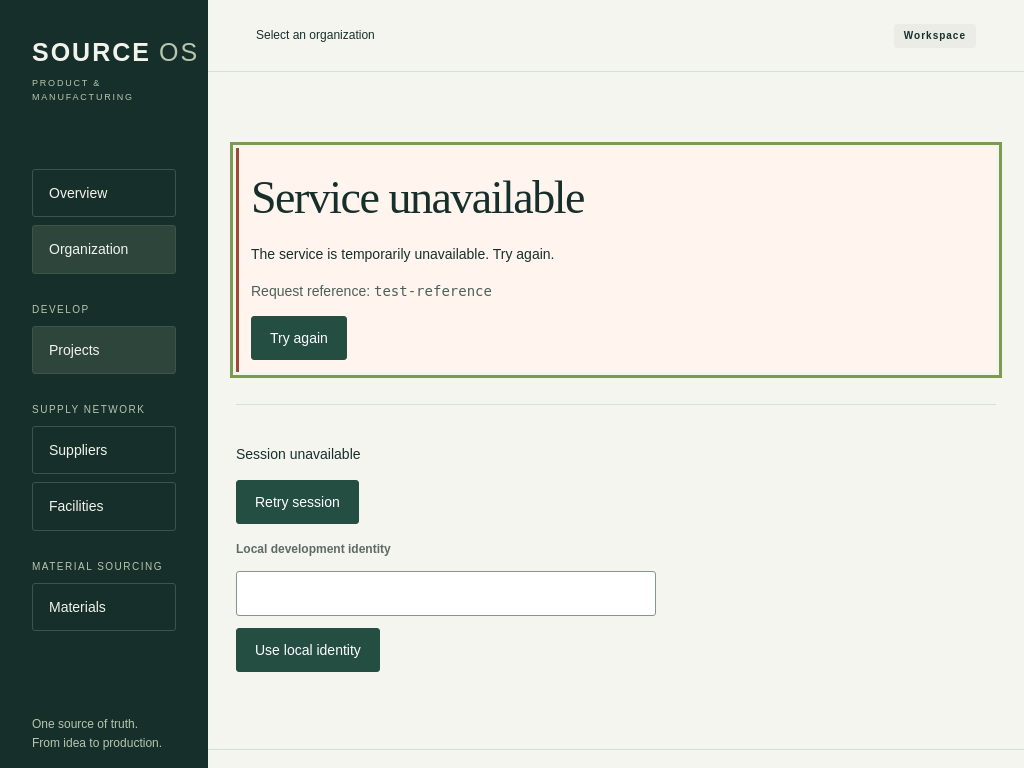
Scenario: transient identity failure is unavailable rather than signed out and supports explicit recovery
Expected: the heading "Service unavailable" is shown, left=251, top=172, right=584, bottom=223
Expected: the text "Session unavailable" is shown, left=236, top=446, right=360, bottom=462
Click the button "Retry session".
click(297, 502)  # box left=236, top=480, right=359, bottom=524
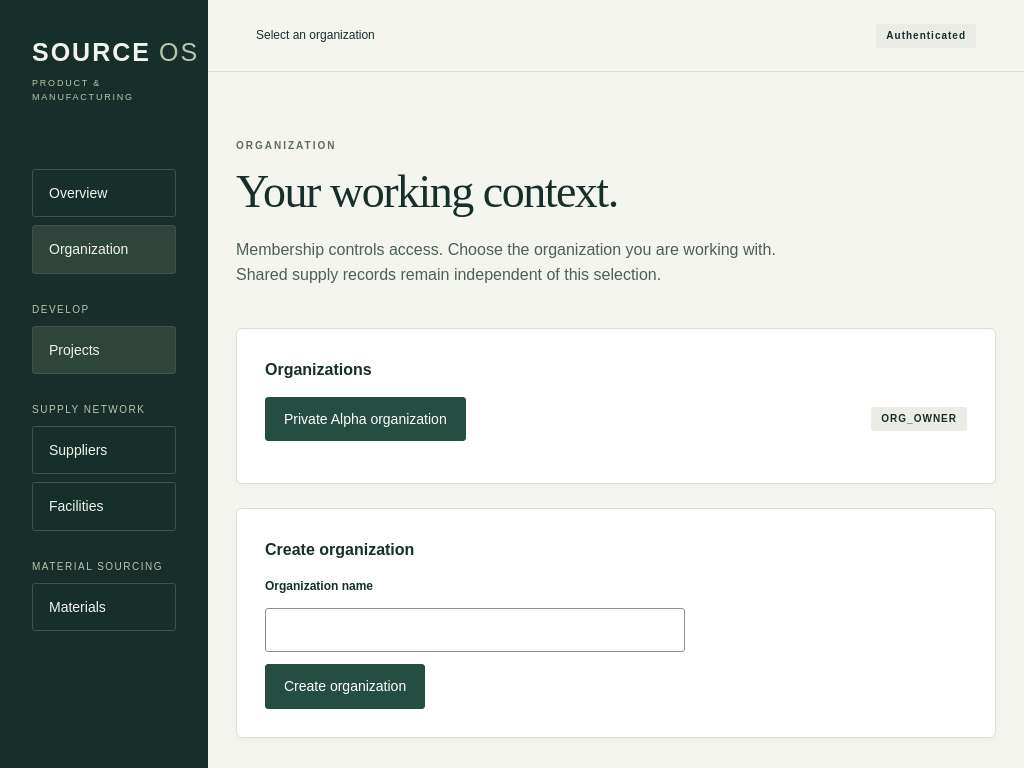
Expected: the heading "Your working context." is shown, left=236, top=166, right=618, bottom=217
